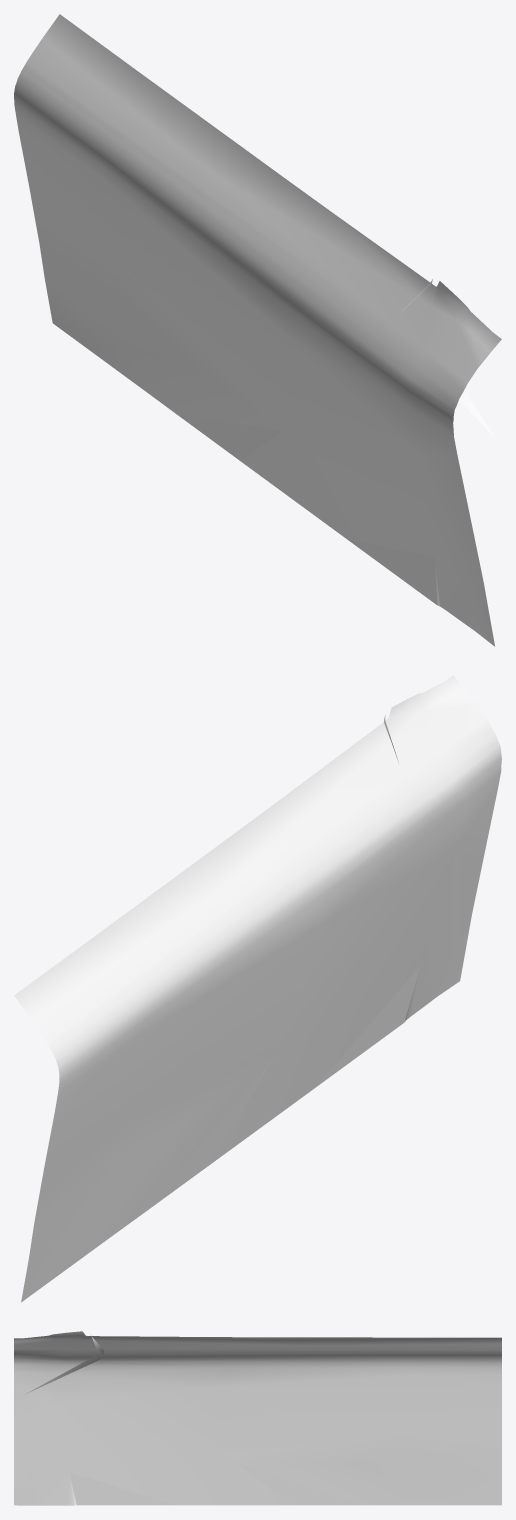
3 renders of one model, top to bottom at view 1: azimuth 30°, elevation 25°; view 2: azimuth 150°, elevation 25°; view 3: azimuth 270°, elevation 25°, orthographic. The views are drawn at different scales.
Size of the model in its own units: 0.0759 by 0.4648 by 1.17.
1 material, 1 textured.
